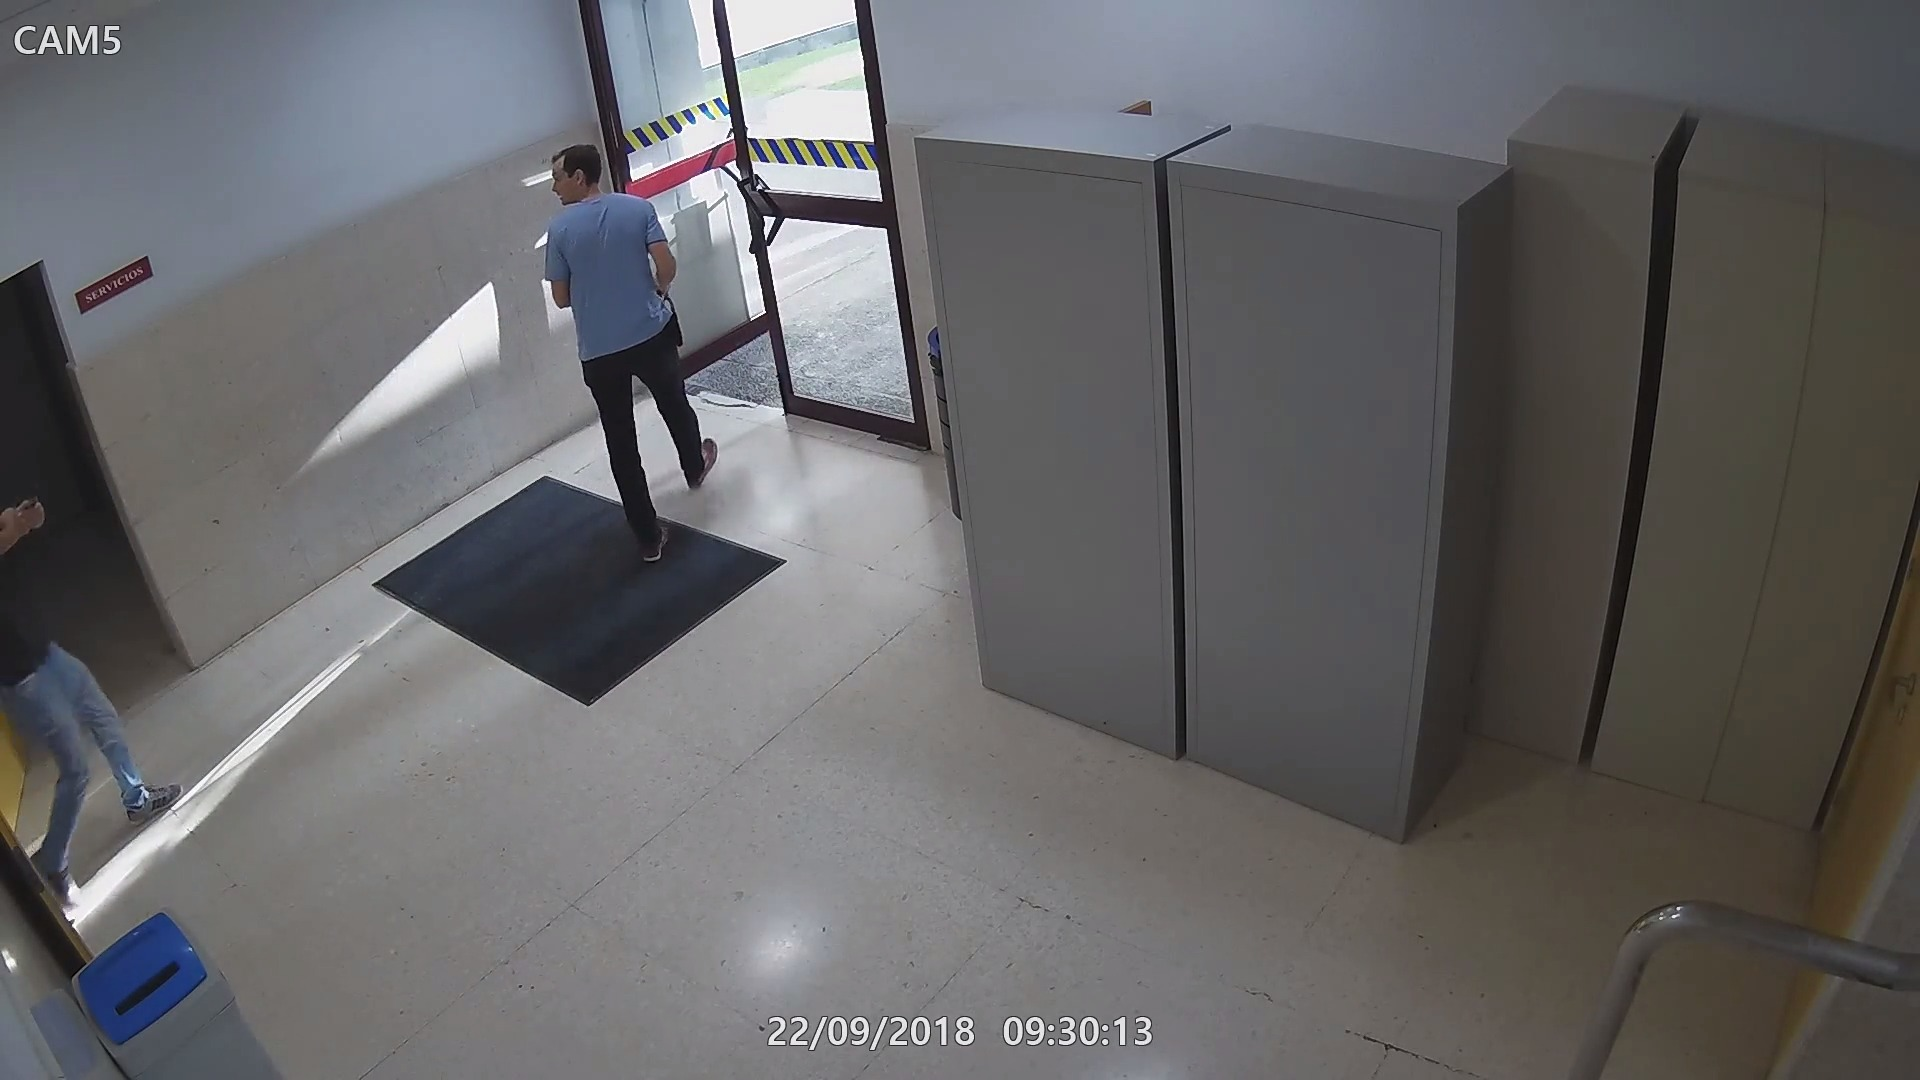Handgun: (0, 481, 50, 543)
